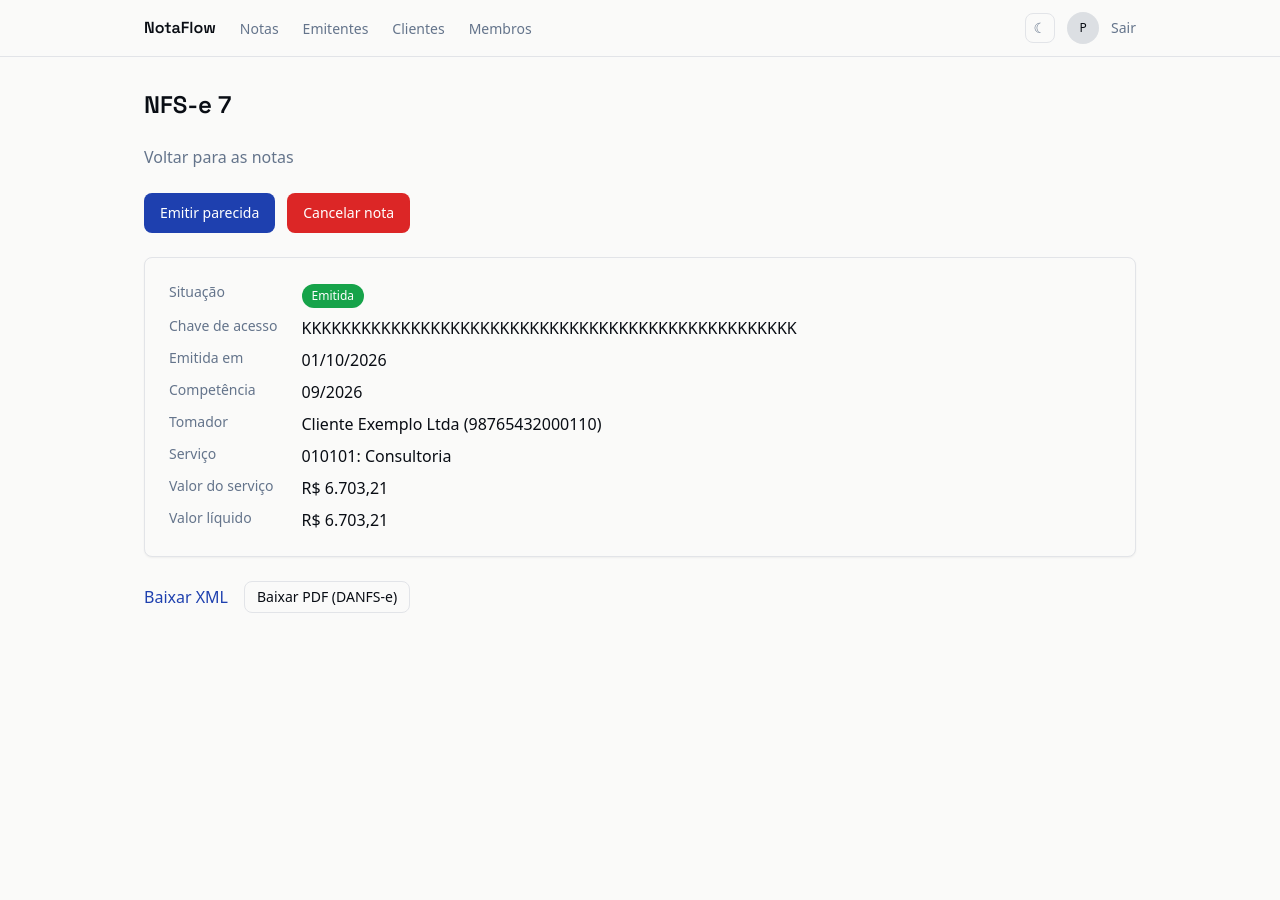
Scenario: a customer cancels a production invoice with Cancelar nota, without the environment
Click the button "Cancelar nota" at (349, 213), box [287,193,410,233]
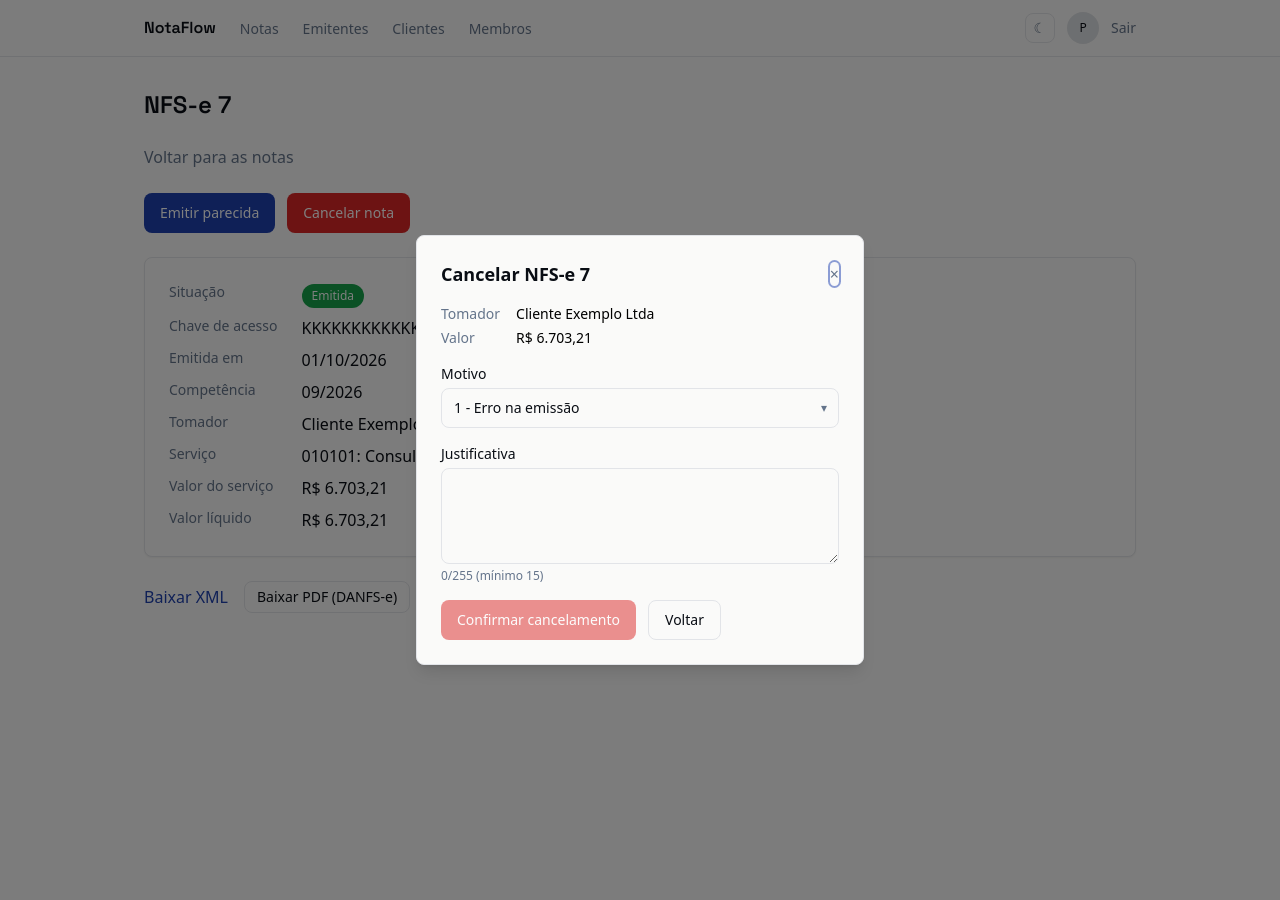
Result: the button "Confirmar cancelamento" is shown at [441,600,636,640]
